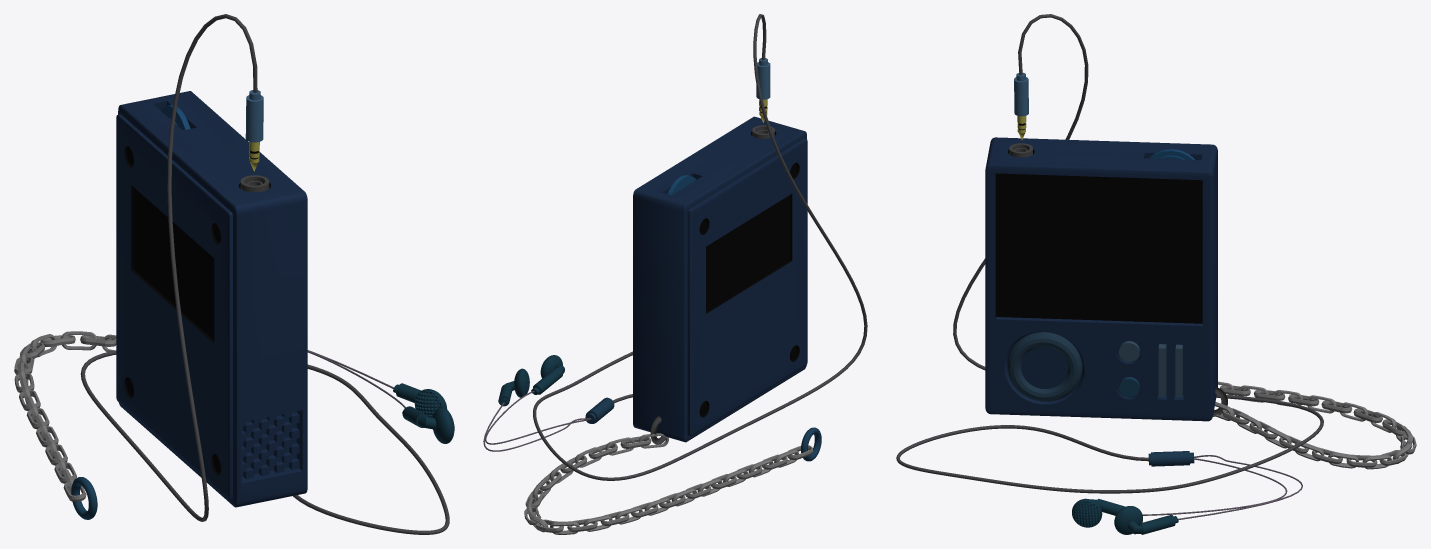
The model's file is mp3_player.glb.
The picture shows the model from 3 angles, left to right: view 1: azimuth 30°, elevation 25°; view 2: azimuth 150°, elevation 25°; view 3: azimuth 270°, elevation 25°; orthographic projection. The views are drawn at different scales.
Visible parts, largest first — view 1: Plane, Torus.002; view 2: Plane, Torus.002; view 3: Plane, Plane_Material.001_0.001.
Boxes of the visible parts, x1,y1,x2,y2 form: Plane: [14, 14, 454, 534]; Torus.002: [71, 477, 97, 519]; Plane: [483, 14, 867, 534]; Torus.002: [801, 427, 821, 461]; Plane: [896, 14, 1416, 534]; Plane_Material.001_0.001: [1001, 176, 1197, 320].
Bounding box in the file's own units: 0.2073 × 0.2631 × 0.2952.
